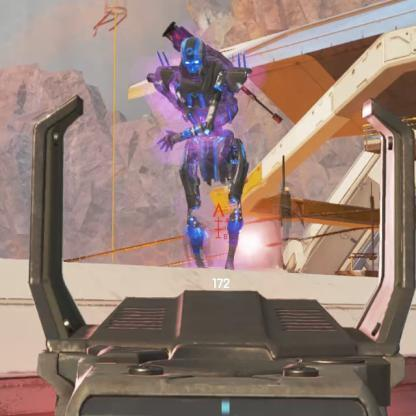avatar: (144, 32, 255, 270)
